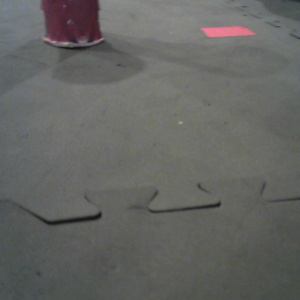middle: (37, 1, 108, 51)
